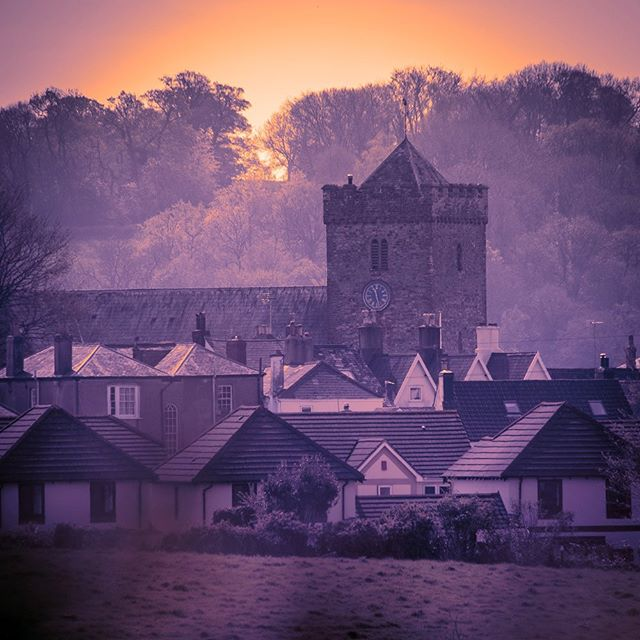building: (5, 146, 493, 340), (466, 393, 640, 572), (172, 392, 351, 541), (26, 345, 264, 447), (305, 402, 478, 512), (1, 417, 145, 543)
sky: (18, 1, 640, 86)
vegetation: (1, 67, 640, 289)
